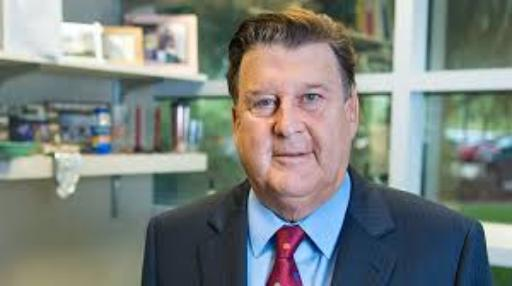left_eye: (299, 93, 330, 105)
left_lip_corner: (305, 150, 317, 159)
right_eye: (256, 97, 281, 111)
right_lip_corner: (269, 151, 283, 161)
